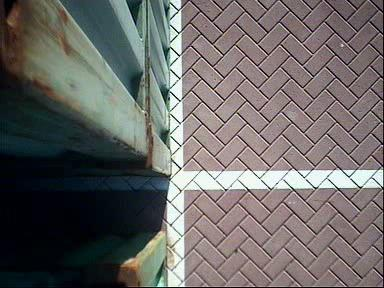groundmarker_2: (191, 147, 253, 228)
